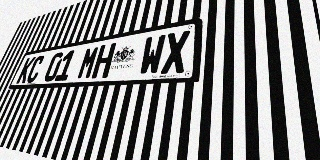0: (43, 52, 65, 82)
1: (54, 50, 77, 81)
C: (25, 55, 46, 83)
H: (91, 43, 116, 79)
K: (16, 57, 36, 84)
M: (76, 45, 101, 80)
W: (138, 34, 166, 76)
X: (161, 30, 190, 74)
